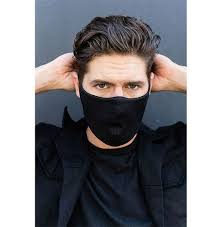with-mask: (69, 13, 159, 148)
